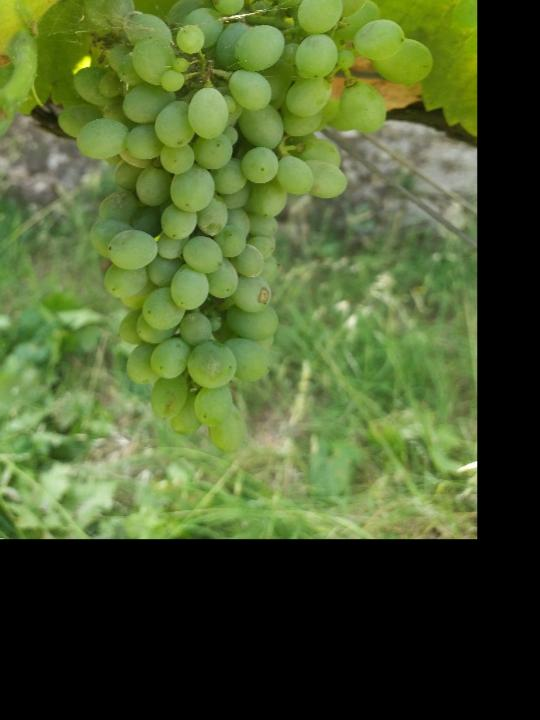grape: (60, 0, 440, 458)
